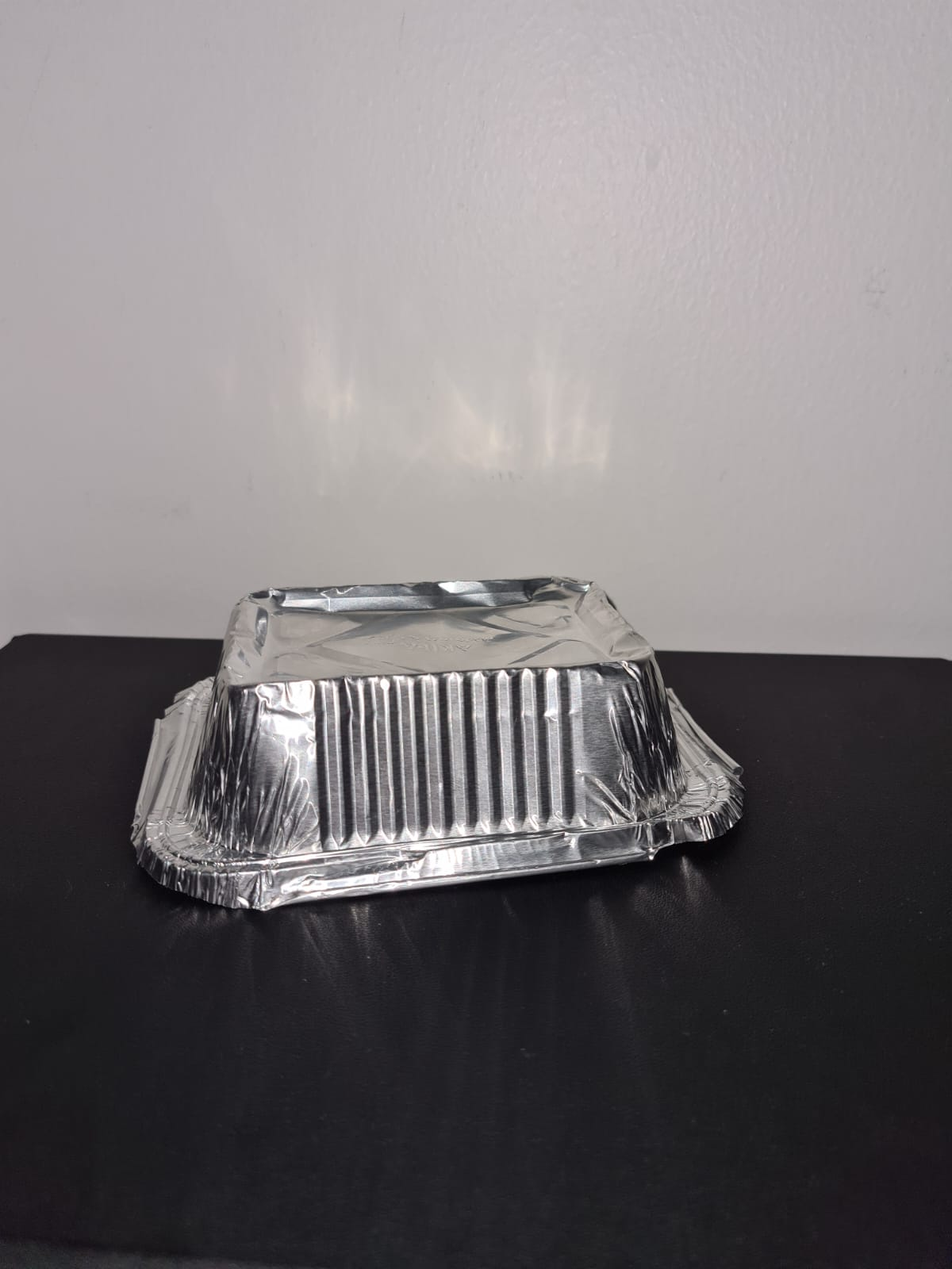Metal: (109, 556, 759, 907)
